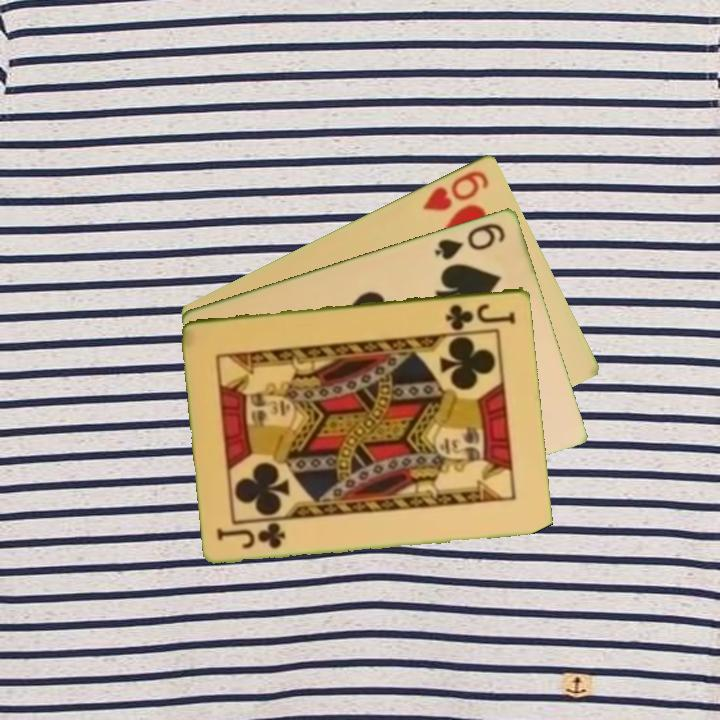6h: (418, 166, 492, 214)
6s: (431, 219, 509, 263)
Jc: (442, 299, 519, 331), (214, 520, 289, 551)
